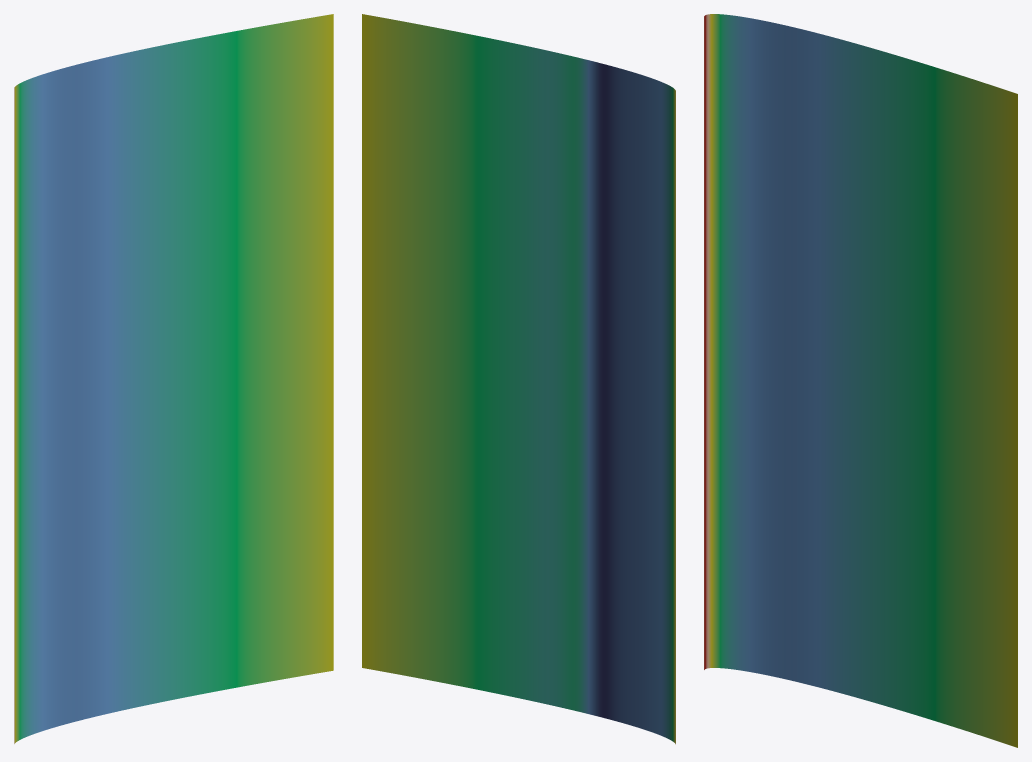
Rendered from morphing_wing_22.glb.
3 views of the same model, side by side, from view 1: azimuth 30°, elevation 25°; view 2: azimuth 150°, elevation 25°; view 3: azimuth 330°, elevation 25° (orthographic).
Visible parts, largest first — view 1: part_0_0; view 2: part_0_0; view 3: part_0_0.
Part boxes in pixels (x1,y1,x2,y2): part_0_0: [14, 14, 333, 743]; part_0_0: [362, 14, 675, 744]; part_0_0: [704, 14, 1017, 747].
Size of the model in its own units: 1.01 by 2 by 0.1203.
